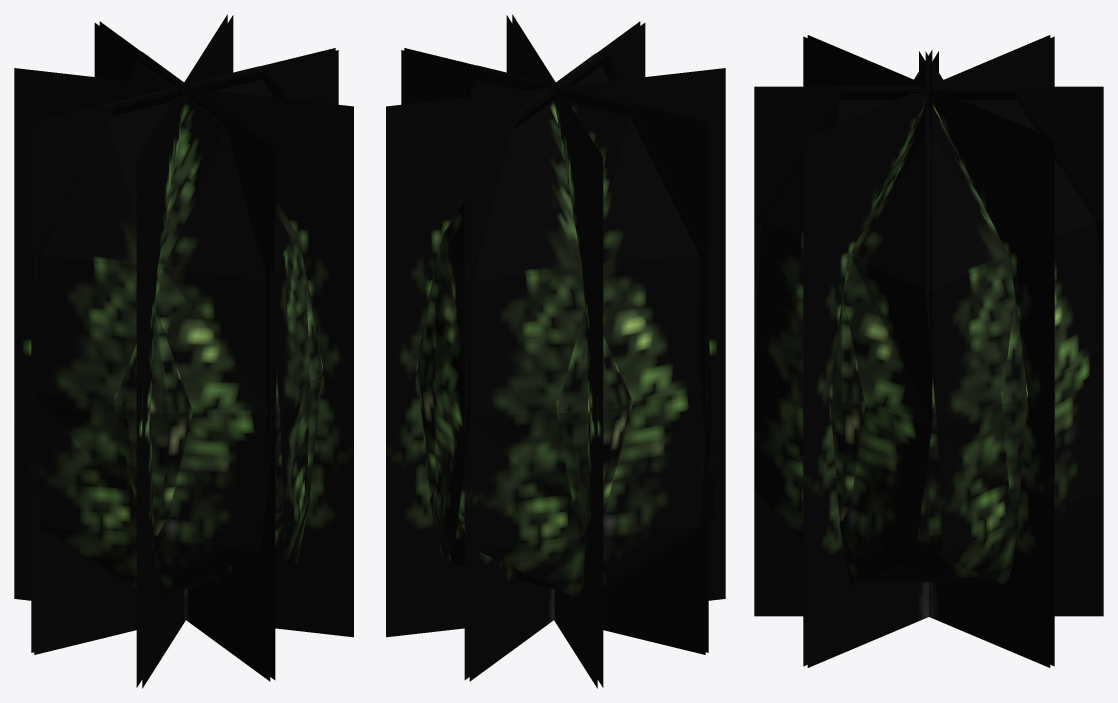
File: bush04.gltf
3 renders of one model, left to right at view 1: azimuth 30°, elevation 25°; view 2: azimuth 150°, elevation 25°; view 3: azimuth 270°, elevation 25°, orthographic.
Parts seen in each view (by area): view 1: bush4; view 2: bush4; view 3: bush4.
Part boxes in pixels (x1,y1,x2,y2): bush4: (14, 14, 353, 688); bush4: (386, 14, 725, 688); bush4: (754, 35, 1103, 667).
Bounding box in the file's own units: 0.6 × 1 × 0.6.
Materials: 1 (1 with a texture image).
